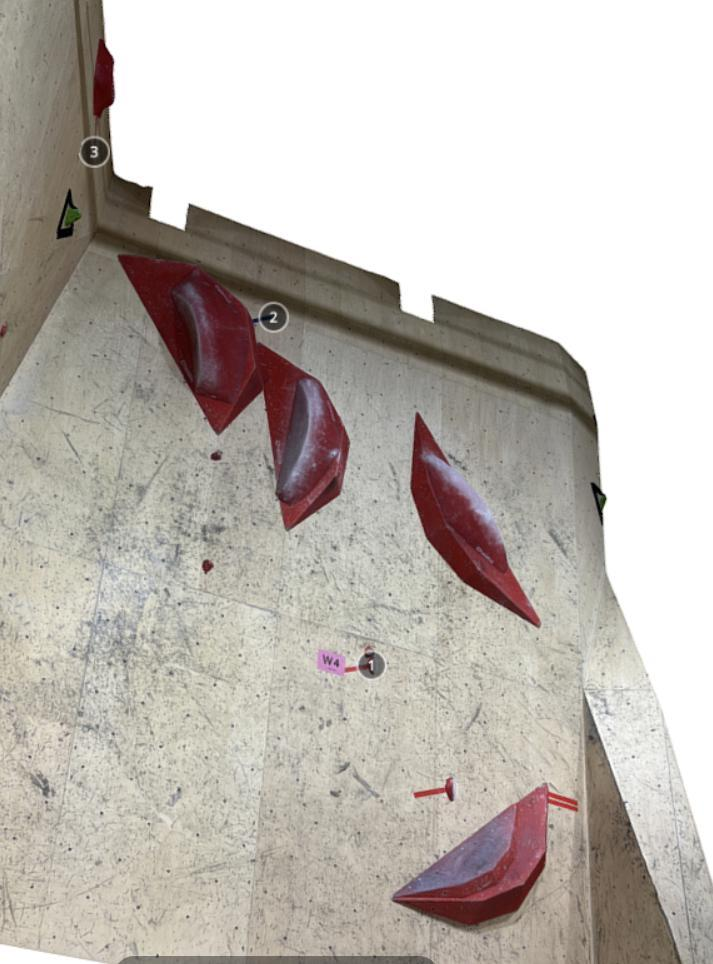hold: (393, 804, 519, 898), (171, 267, 250, 402), (423, 452, 508, 573), (275, 378, 341, 504), (93, 38, 115, 119), (56, 189, 82, 240), (590, 482, 607, 526), (444, 777, 455, 802), (201, 560, 214, 572), (367, 657, 375, 674), (210, 450, 222, 461), (364, 645, 375, 657), (0, 321, 7, 337)
volume: (409, 411, 542, 629), (117, 254, 265, 435), (391, 782, 549, 925), (258, 341, 351, 532)
